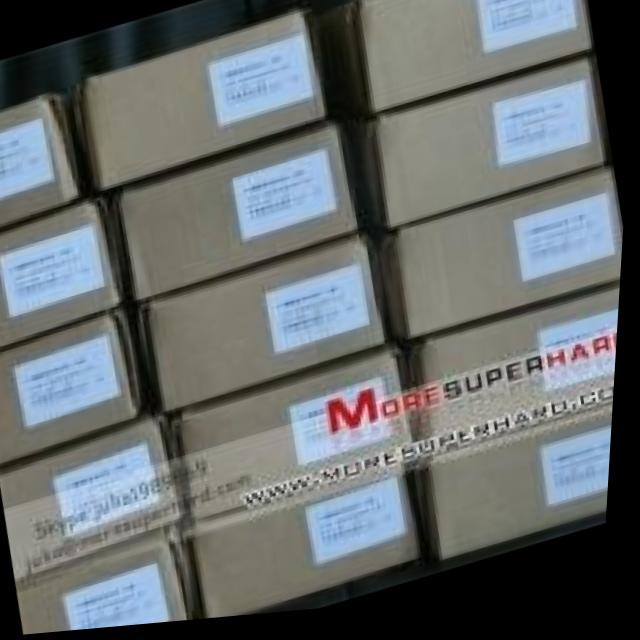box: (76, 16, 329, 192), (150, 243, 392, 412), (122, 133, 361, 302), (184, 357, 423, 526), (371, 72, 606, 235), (400, 182, 626, 343), (202, 466, 425, 623), (426, 299, 624, 463), (5, 420, 190, 581), (438, 412, 619, 568), (358, 0, 592, 117), (0, 315, 139, 465), (22, 530, 204, 636), (0, 200, 126, 350), (0, 92, 85, 226)
